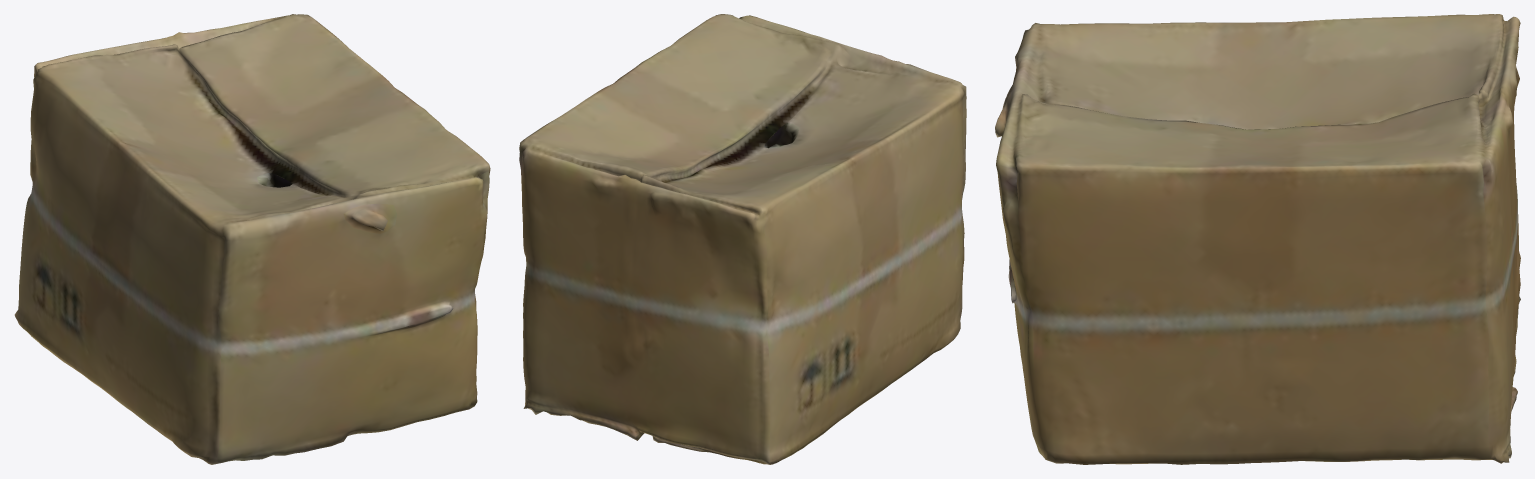
The model's file is cardboard_box_01.glb.
The picture shows the model from 3 angles, left to right: view 1: azimuth 30°, elevation 25°; view 2: azimuth 150°, elevation 25°; view 3: azimuth 270°, elevation 25°; orthographic projection. The views are drawn at different scales.
Parts seen in each view (by area): view 1: cardboard_box_01_mesh; view 2: cardboard_box_01_mesh; view 3: cardboard_box_01_mesh.
Boxes of the visible parts, <box> form: cardboard_box_01_mesh: <box>14,14,490,464</box>; cardboard_box_01_mesh: <box>519,14,966,464</box>; cardboard_box_01_mesh: <box>995,14,1520,464</box>.
Size of the model in its own units: 0.387 by 0.3418 by 0.5159.
1 material, 1 textured.
